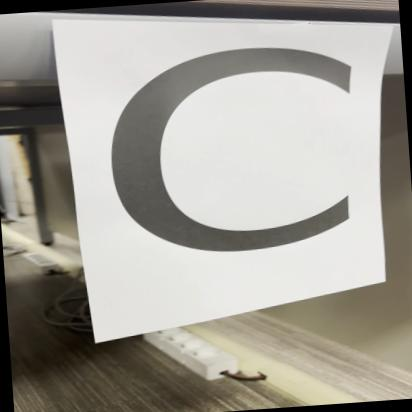seat: (78, 5, 397, 313)
